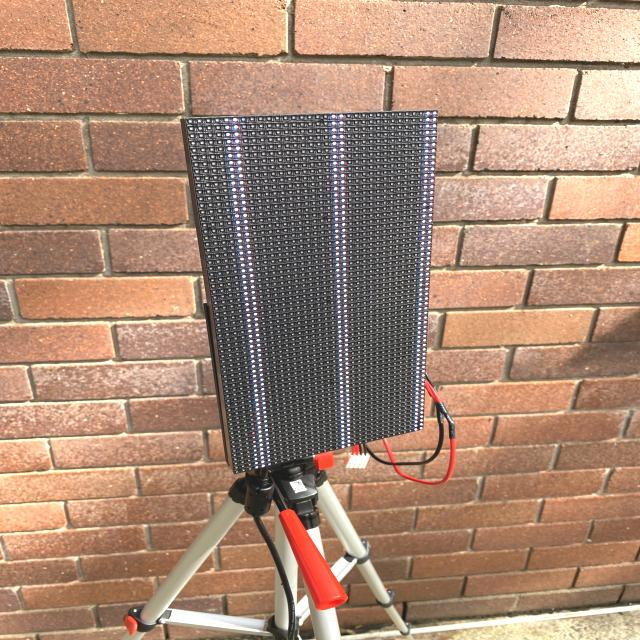matrix: (174, 109, 457, 482)
